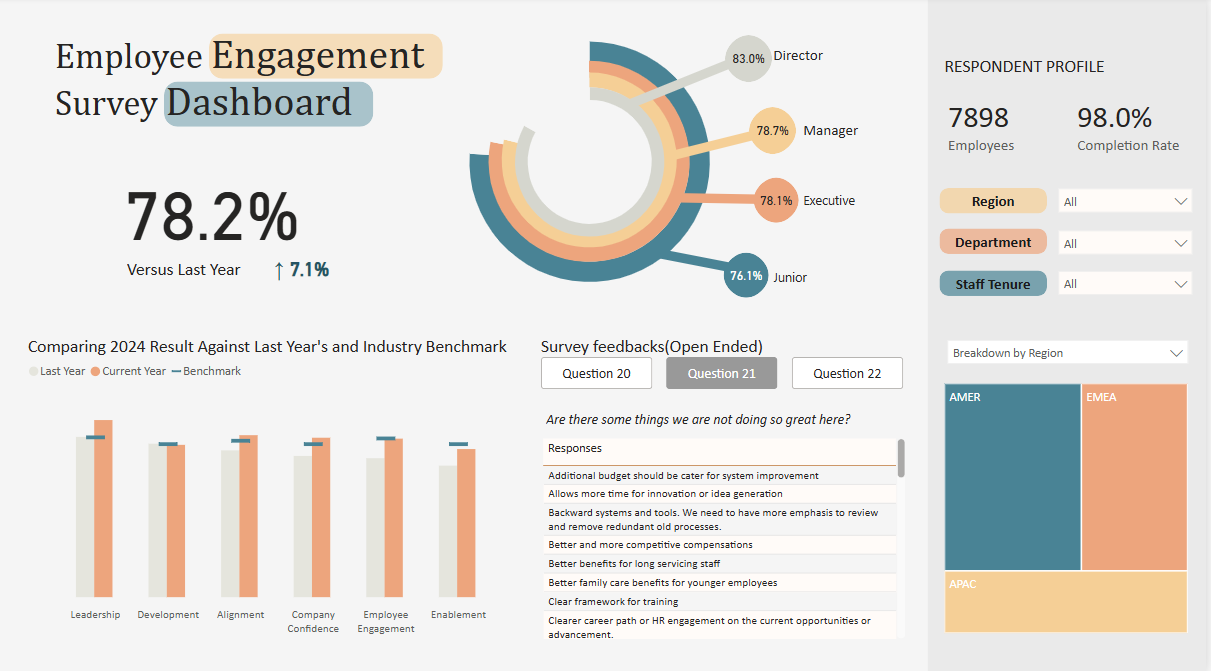

What the dashboard file says about the page in this screenshot:
{"tool":"powerbi","page":{"name":"Dashboard","canvas":[1280,720],"ordinal":0},"visuals":[{"type":"shape","box":[222,39,248,48],"z":0},{"type":"shape","box":[175,90,222,48],"z":1000},{"type":"textbox","box":[54,30,456,115],"z":2000},{"type":"cardVisual","fields":{"Data":["Measure.Score_CY"]},"box":[122,154,249,147],"z":2001},{"type":"cardVisual","fields":{"Data":["Measure.Score_Var"]},"box":[120,264,240,48],"z":2002},{"type":"textbox","box":[131,272,141,33],"z":2003},{"type":"donutChart","fields":{"Y":["Measure.Score_CY","Measure.Score_Blank"]},"box":[465,11,324,324],"z":2004},{"type":"donutChart","fields":{"Y":["Measure.Score_CY","Measure.Score_Blank"]},"box":[490,37,272,272],"z":2005},{"type":"donutChart","fields":{"Y":["Measure.Score_CY","Measure.Score_Blank"]},"box":[506,52,240,237],"z":2006},{"type":"donutChart","fields":{"Y":["Measure.Score_CY","Measure.Score_Blank"]},"box":[525,72,203,203],"z":2007},{"type":"shape","box":[662,45,116,99],"z":2008},{"type":"shape","box":[713,106,108,99],"z":2009},{"type":"shape","box":[722,165,104,99],"z":2010},{"type":"shape","box":[688,224,96,112],"z":2011},{"type":"cardVisual","fields":{"Data":["Measure.Score_CY"]},"box":[770,41,50,50],"z":2012},{"type":"cardVisual","fields":{"Data":["Measure.Score_CY"]},"box":[796,118,50,50],"z":2013},{"type":"cardVisual","fields":{"Data":["Measure.Score_CY"]},"box":[800,192,48,48],"z":2014},{"type":"cardVisual","fields":{"Data":["Measure.Score_CY"]},"box":[768,272,48,48],"z":2015},{"type":"textbox","box":[816,48,64,32],"z":2016},{"type":"textbox","box":[848,128,80,32],"z":2017},{"type":"textbox","box":[848,202,80,32],"z":2018},{"type":"textbox","box":[816,283,64,32],"z":2019},{"type":"lineClusteredColumnComboChart","title":"Comparing 2024 Result Against Last Year''s and Industry Benchmark","fields":{"Category":["_survey.Category"],"Y":["Measure.Score_LY","Measure.Score_CY"],"Y2":["Measure.Benchmark"]},"box":[26,360,518,327],"z":2020},{"type":"advancedSlicerVisual","title":"Survey feedbacks(Open Ended)","fields":{"Values":["_survey.Question"]},"box":[570,360,396,58],"z":2021},{"type":"cardVisual","fields":{"Data":["Measure.Question"]},"box":[571,419,401,52],"z":2022},{"type":"tableEx","fields":{"Values":["_response.Open-Ended Answers"]},"box":[571,470,395,212],"z":2023},{"type":"textbox","box":[998,57,269,38],"z":2024},{"type":"cardVisual","fields":{"Data":["Measure.Employee_CY","Measure.Completion Rate"]},"box":[998,95,276,85],"z":2025},{"type":"shape","box":[998,203,114,27],"z":2026},{"type":"shape","box":[998,247,114,27],"z":2027},{"type":"shape","box":[998,291,114,27],"z":2028},{"type":"slicer","fields":{"Values":["_employee.Region"]},"box":[1113,199,162,36],"z":2029},{"type":"slicer","fields":{"Values":["_employee.Department"]},"box":[1113,243,162,36],"z":2030},{"type":"slicer","fields":{"Values":["_employee.Tenure Group"]},"box":[1113,287,162,36],"z":2031},{"type":"slicer","fields":{"Values":["Parameter.Parameter"]},"box":[995,360,275,35],"z":2032},{"type":"treemap","fields":{"Group":["_employee.Region"],"Values":["Measure.Employee_CY"]},"box":[998,405,268,275],"z":2033}]}

Visuals, with their boxes in screenshot pixels (x1, y1, x2, y2), scaled from the page's 1280x720 canvas onto the 1211x671 screenshot:
shape: <bbox>210, 36, 445, 81</bbox>
shape: <bbox>166, 84, 376, 129</bbox>
textbox: <bbox>51, 28, 483, 135</bbox>
cardVisual - Measure.Score_CY: <bbox>115, 144, 351, 281</bbox>
cardVisual - Measure.Score_Var: <bbox>114, 246, 341, 291</bbox>
textbox: <bbox>124, 253, 257, 284</bbox>
donutChart - Measure.Score_CY x Measure.Score_Blank: <bbox>440, 10, 746, 312</bbox>
donutChart - Measure.Score_CY x Measure.Score_Blank: <bbox>464, 34, 721, 288</bbox>
donutChart - Measure.Score_CY x Measure.Score_Blank: <bbox>479, 48, 706, 269</bbox>
donutChart - Measure.Score_CY x Measure.Score_Blank: <bbox>497, 67, 689, 256</bbox>
shape: <bbox>626, 42, 736, 134</bbox>
shape: <bbox>675, 99, 777, 191</bbox>
shape: <bbox>683, 154, 781, 246</bbox>
shape: <bbox>651, 209, 742, 313</bbox>
cardVisual - Measure.Score_CY: <bbox>728, 38, 776, 85</bbox>
cardVisual - Measure.Score_CY: <bbox>753, 110, 800, 157</bbox>
cardVisual - Measure.Score_CY: <bbox>757, 179, 802, 224</bbox>
cardVisual - Measure.Score_CY: <bbox>727, 253, 772, 298</bbox>
textbox: <bbox>772, 45, 833, 75</bbox>
textbox: <bbox>802, 119, 878, 149</bbox>
textbox: <bbox>802, 188, 878, 218</bbox>
textbox: <bbox>772, 264, 833, 294</bbox>
"Comparing 2024 Result Against Last Year''s and Industry Benchmark" lineClusteredColumnComboChart: <bbox>25, 336, 515, 640</bbox>
"Survey feedbacks(Open Ended)" advancedSlicerVisual: <bbox>539, 336, 914, 390</bbox>
cardVisual - Measure.Question: <bbox>540, 390, 920, 439</bbox>
tableEx - _response.Open-Ended Answers: <bbox>540, 438, 914, 636</bbox>
textbox: <bbox>944, 53, 1199, 89</bbox>
cardVisual - Measure.Employee_CY x Measure.Completion Rate: <bbox>944, 89, 1205, 168</bbox>
shape: <bbox>944, 189, 1052, 214</bbox>
shape: <bbox>944, 230, 1052, 255</bbox>
shape: <bbox>944, 271, 1052, 296</bbox>
slicer - _employee.Region: <bbox>1053, 185, 1206, 219</bbox>
slicer - _employee.Department: <bbox>1053, 226, 1206, 260</bbox>
slicer - _employee.Tenure Group: <bbox>1053, 267, 1206, 301</bbox>
slicer - Parameter.Parameter: <bbox>941, 336, 1202, 368</bbox>
treemap - _employee.Region x Measure.Employee_CY: <bbox>944, 377, 1198, 634</bbox>
